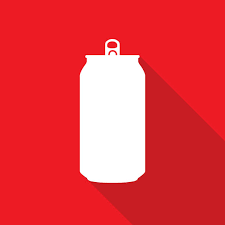can: (77, 37, 148, 186)
